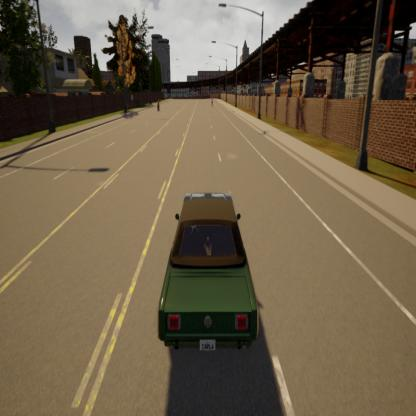Cars: (153, 160, 265, 364)
